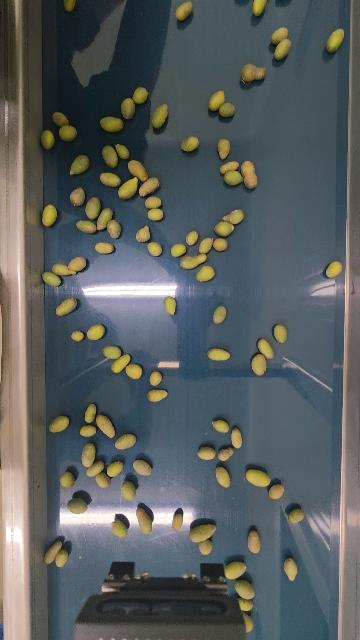Baby Potato: (240, 61, 267, 83), (240, 159, 259, 190), (245, 467, 272, 488), (178, 252, 209, 270), (127, 158, 149, 182), (95, 413, 115, 439), (325, 28, 345, 54), (150, 102, 169, 129), (189, 523, 216, 542), (44, 539, 63, 566), (136, 504, 153, 534), (138, 175, 160, 197), (118, 177, 139, 200), (272, 37, 292, 61), (173, 0, 194, 22), (234, 579, 256, 600), (69, 154, 90, 176), (224, 560, 247, 580), (55, 297, 78, 317), (111, 352, 131, 375), (49, 414, 71, 434), (84, 196, 102, 220), (95, 206, 113, 230), (101, 145, 119, 169), (41, 203, 58, 228), (100, 116, 125, 133), (246, 529, 263, 553), (80, 442, 96, 467), (194, 263, 215, 282), (257, 337, 275, 359), (222, 208, 245, 225), (251, 353, 268, 376), (283, 556, 298, 582), (208, 89, 225, 111), (99, 171, 121, 188), (222, 169, 244, 186), (270, 25, 289, 44), (180, 135, 200, 153), (58, 124, 78, 142), (41, 270, 62, 287), (115, 433, 136, 450), (67, 497, 88, 514), (214, 220, 235, 237), (215, 466, 231, 488), (120, 97, 136, 119), (216, 137, 231, 160), (68, 256, 87, 274), (325, 260, 343, 279), (132, 85, 149, 105), (207, 347, 231, 361), (40, 129, 55, 151), (87, 323, 105, 341), (133, 459, 152, 476), (69, 187, 86, 206), (86, 460, 105, 477), (112, 518, 128, 538), (106, 219, 122, 239), (121, 480, 136, 501), (212, 304, 227, 325), (273, 323, 288, 344), (147, 388, 168, 403), (76, 219, 97, 234), (52, 262, 73, 277), (106, 460, 124, 477), (197, 445, 216, 461), (102, 345, 122, 360), (230, 426, 243, 449), (126, 363, 143, 380), (219, 101, 236, 118), (268, 483, 285, 500), (288, 507, 305, 524), (198, 236, 214, 254), (163, 295, 177, 315), (241, 612, 254, 633), (84, 403, 97, 424), (219, 160, 240, 173), (147, 240, 163, 257), (170, 242, 187, 258), (136, 225, 151, 243), (60, 470, 74, 489), (144, 195, 163, 209), (55, 548, 68, 568), (213, 236, 229, 252), (251, 0, 267, 16), (52, 111, 69, 126), (217, 446, 234, 461), (114, 143, 129, 160), (211, 419, 229, 433), (95, 472, 110, 488), (94, 242, 114, 254), (147, 207, 164, 221), (80, 424, 97, 438), (198, 540, 213, 555), (149, 370, 162, 387), (185, 230, 198, 246), (238, 599, 254, 612), (172, 512, 183, 530), (71, 329, 85, 342), (63, 0, 76, 13)
